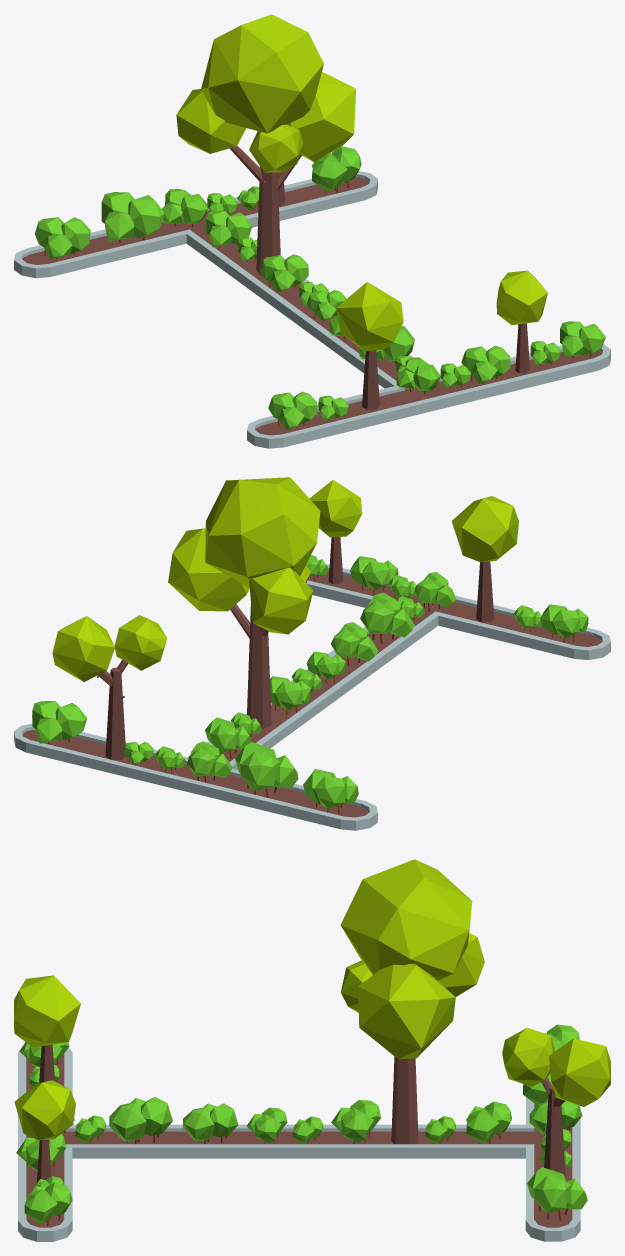
The model's file is ParkingBay1.fbx.
3 renders of one model, top to bottom at view 1: azimuth 30°, elevation 25°; view 2: azimuth 150°, elevation 25°; view 3: azimuth 270°, elevation 25°, orthographic. The views are drawn at different scales.
Visible parts, largest first — view 1: Cube.013, Icosphere.047, Cylinder.047, Icosphere.046, Cylinder.044, Icosphere.048, Icosphere.041, Cylinder.045, Icosphere.044, Icosphere.035, Icosphere.040, Icosphere.042 (+11 smaller); view 2: Cube.013, Icosphere.047, Cylinder.046, Cylinder.047, Icosphere.046, Icosphere.048, Cylinder.044, Cylinder.045, Icosphere.041, Icosphere.040, Icosphere.036, Icosphere.035 (+12 smaller); view 3: Cube.013, Icosphere.047, Cylinder.046, Icosphere.046, Cylinder.047, Cylinder.044, Cylinder.045, Icosphere.036, Icosphere.040, Icosphere.026, Icosphere.032, Icosphere.031 (+11 smaller).
Part boxes in pixels (x1,y1,x2,y2): Cube.013: [14, 171, 610, 448]; Icosphere.047: [201, 14, 323, 133]; Cylinder.047: [336, 282, 403, 409]; Icosphere.046: [288, 72, 355, 161]; Cylinder.044: [496, 270, 547, 373]; Icosphere.048: [176, 89, 246, 153]; Icosphere.041: [101, 192, 164, 242]; Cylinder.045: [230, 145, 301, 275]; Icosphere.044: [249, 124, 303, 172]; Icosphere.035: [35, 217, 90, 259]; Icosphere.040: [311, 146, 361, 193]; Icosphere.042: [268, 391, 317, 429]; Cube.013: [14, 564, 610, 830]; Icosphere.047: [205, 477, 320, 587]; Cylinder.046: [52, 615, 166, 759]; Cylinder.047: [451, 496, 518, 622]; Icosphere.046: [168, 528, 249, 611]; Icosphere.048: [249, 567, 313, 634]; Cylinder.044: [309, 480, 362, 584]; Cylinder.045: [230, 604, 271, 729]; Icosphere.041: [235, 742, 298, 797]; Icosphere.040: [32, 701, 86, 744]; Icosphere.036: [360, 592, 414, 643]; Icosphere.035: [303, 769, 358, 813]; Cube.013: [18, 1047, 580, 1241]; Icosphere.047: [340, 859, 472, 980]; Cylinder.046: [502, 1027, 610, 1179]; Icosphere.046: [358, 964, 455, 1059]; Cylinder.047: [14, 975, 80, 1083]; Cylinder.044: [14, 1080, 75, 1183]; Cylinder.045: [391, 1056, 418, 1144]; Icosphere.036: [109, 1097, 172, 1144]; Icosphere.040: [527, 1167, 587, 1221]; Icosphere.026: [183, 1103, 238, 1144]; Icosphere.032: [331, 1100, 381, 1143]; Icosphere.031: [24, 1182, 72, 1225].
Bounding box in the file's own units: 1638 × 1121 × 2181.
